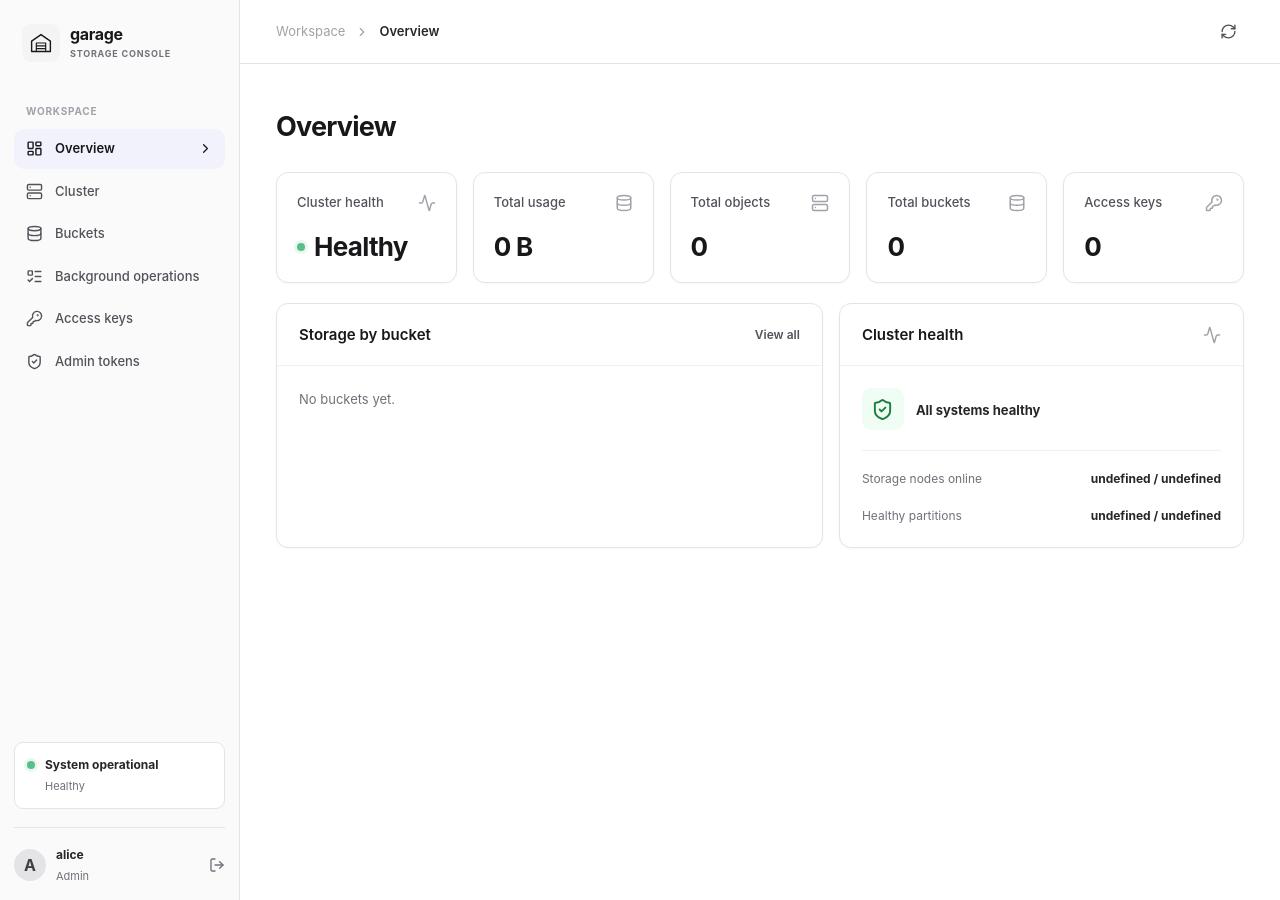
Test: keeps action errors visible inside the open dialog
Click the button "Buckets" at coordinates (120, 234), box [14,214,225,254]
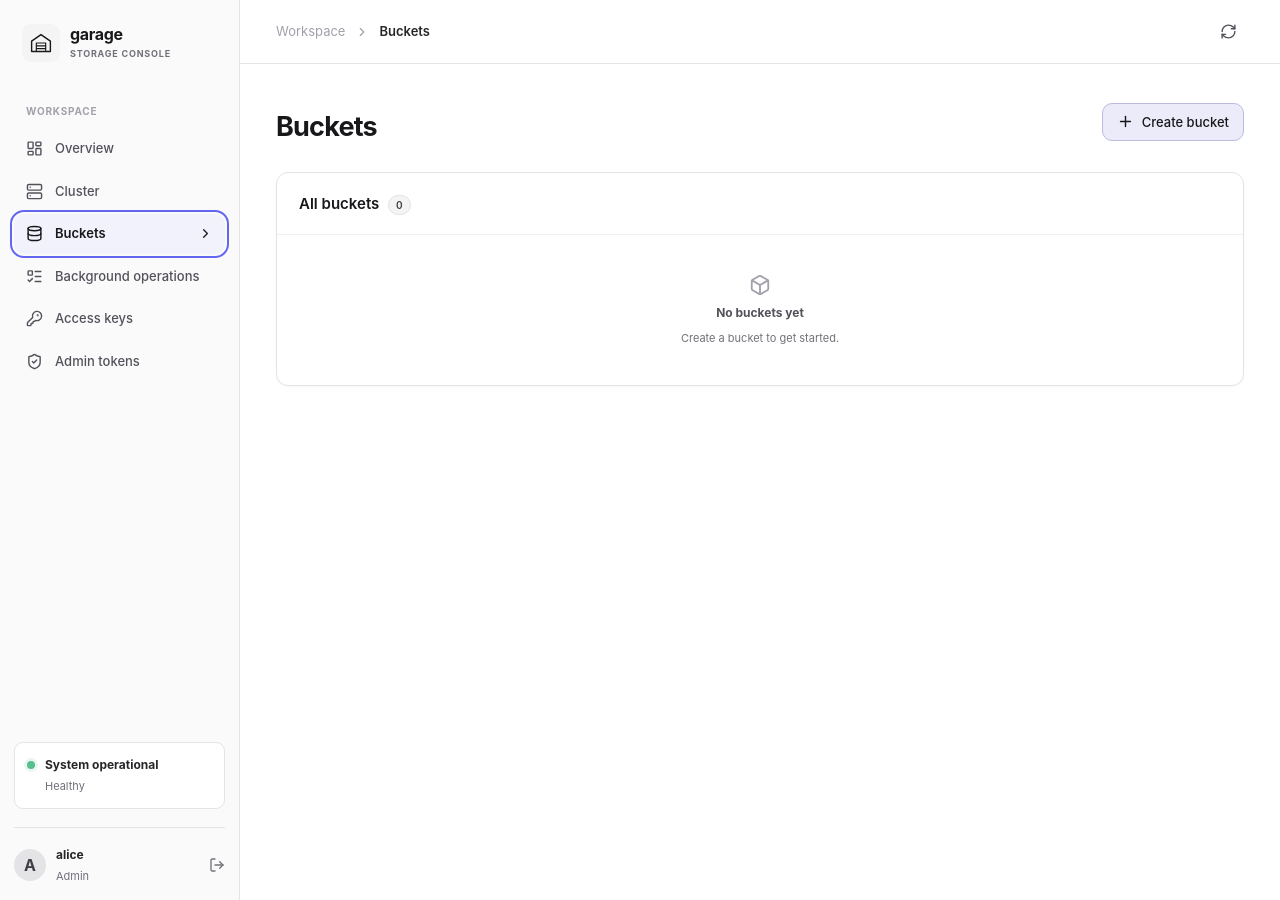
Click the button "Create bucket" at coordinates (1173, 122), box [1102,103,1244,141]
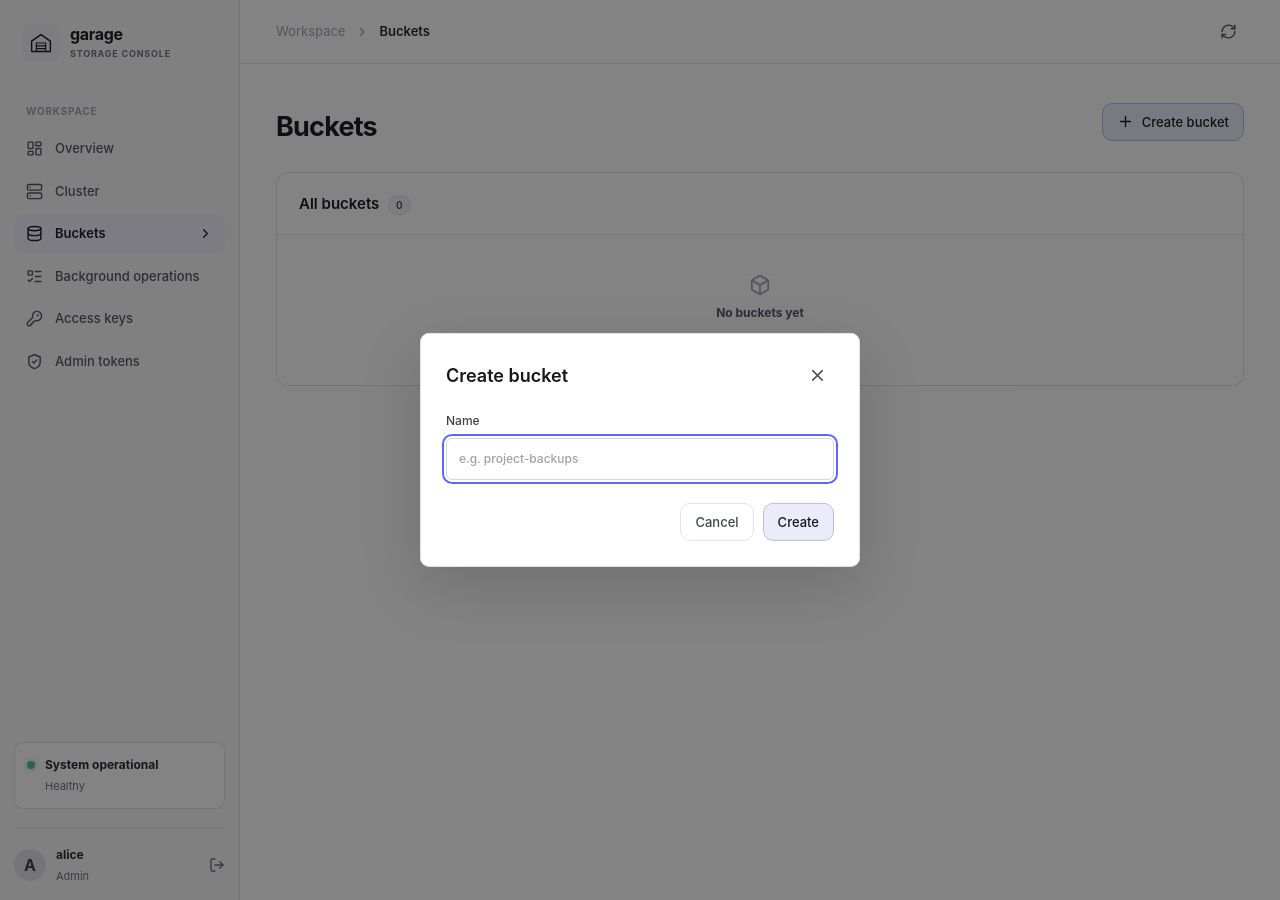
Type "existing" into the field labelled "Name" at coordinates (640, 459), box [446,438,834,480]
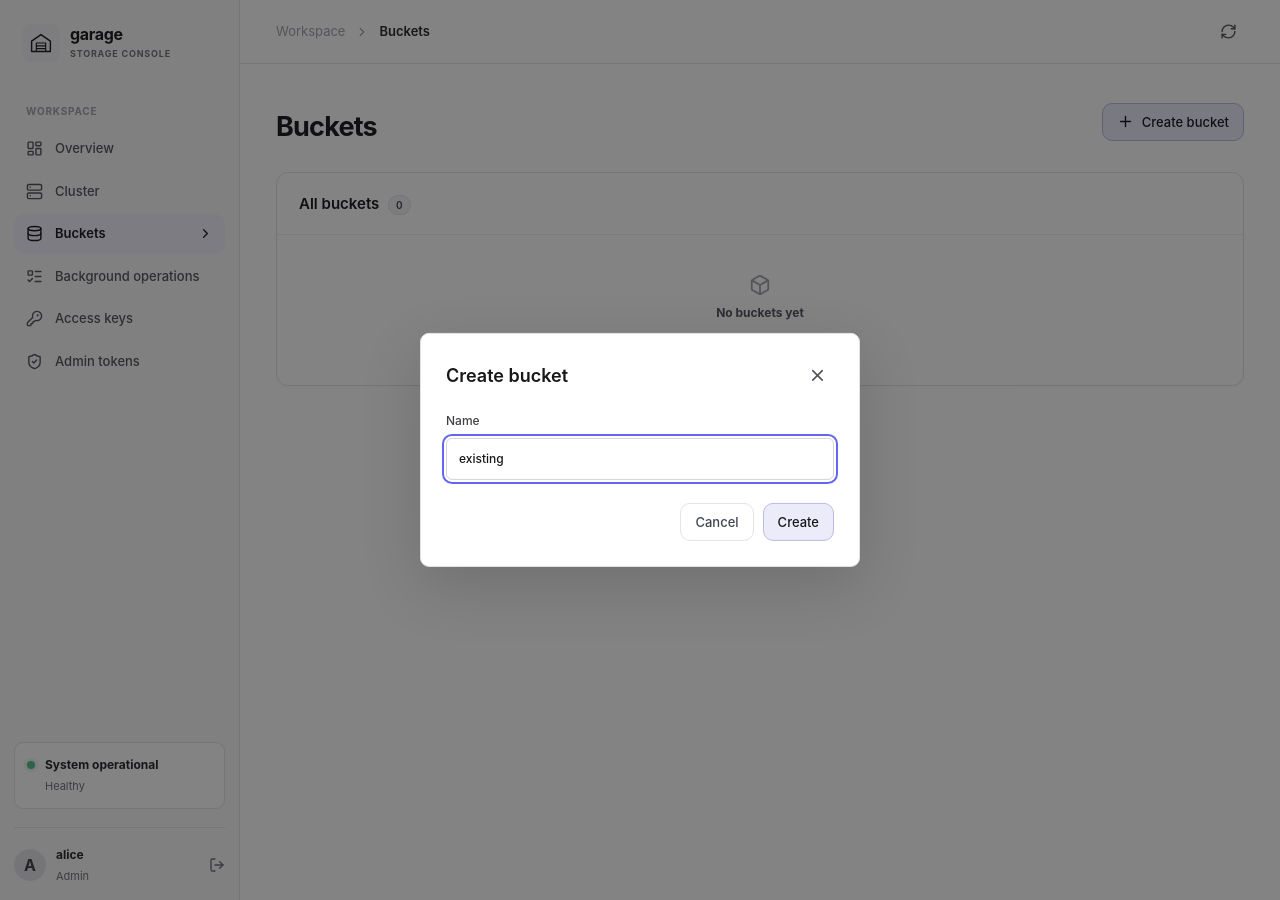
Click the button "Create" at coordinates (798, 522), box [763,503,834,541]
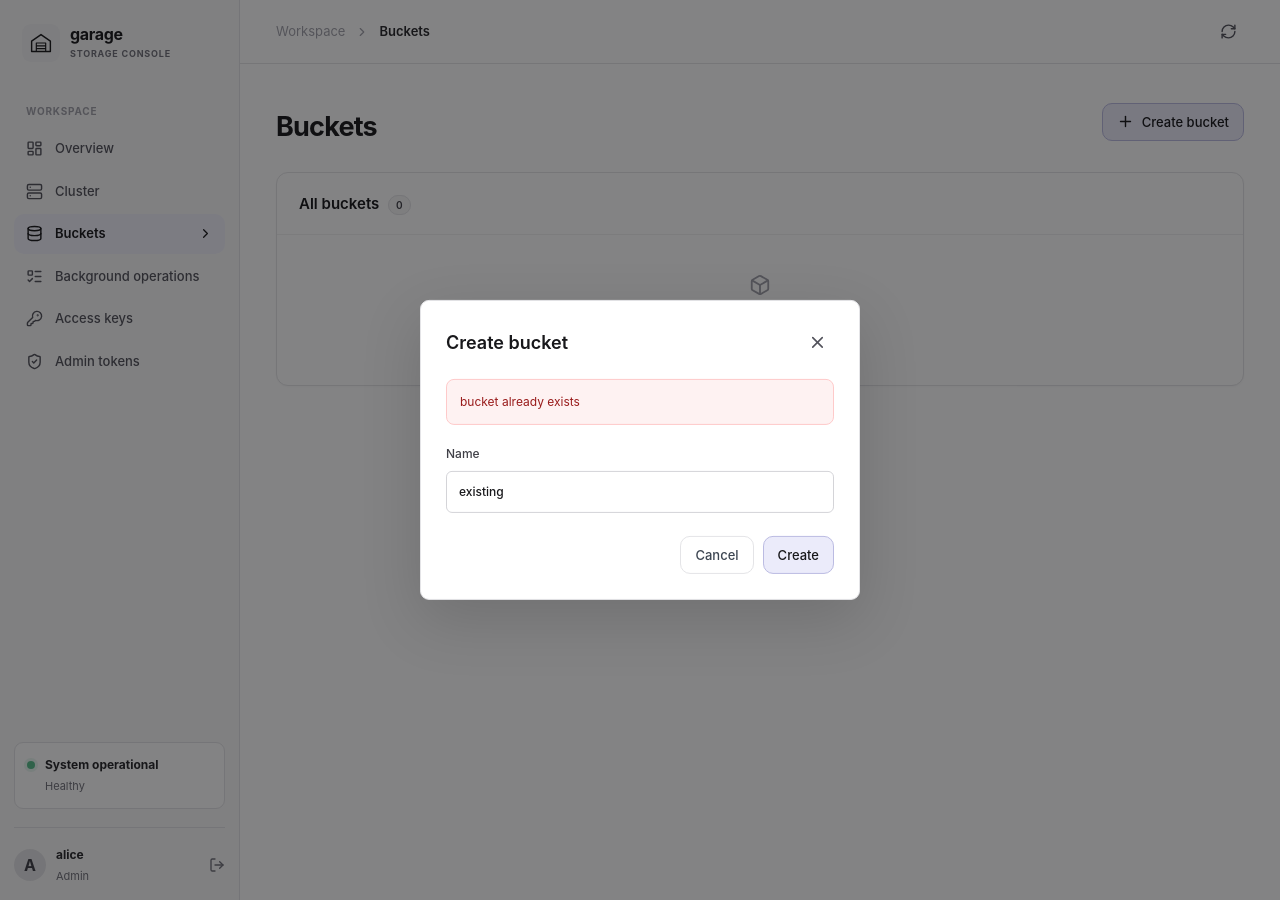
Expected: the message reads "bucket already exists", [460,394,580,409]
